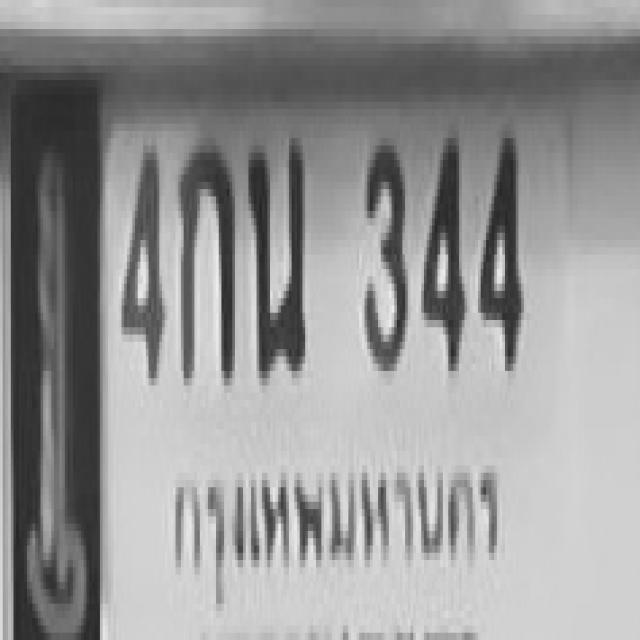10GorGai: (178, 138, 232, 378)
3: (362, 138, 405, 364)
34NorNu: (246, 134, 302, 374)
4: (119, 142, 162, 374), (421, 131, 462, 364), (478, 127, 518, 360)
Bangkok: (167, 435, 516, 612)
